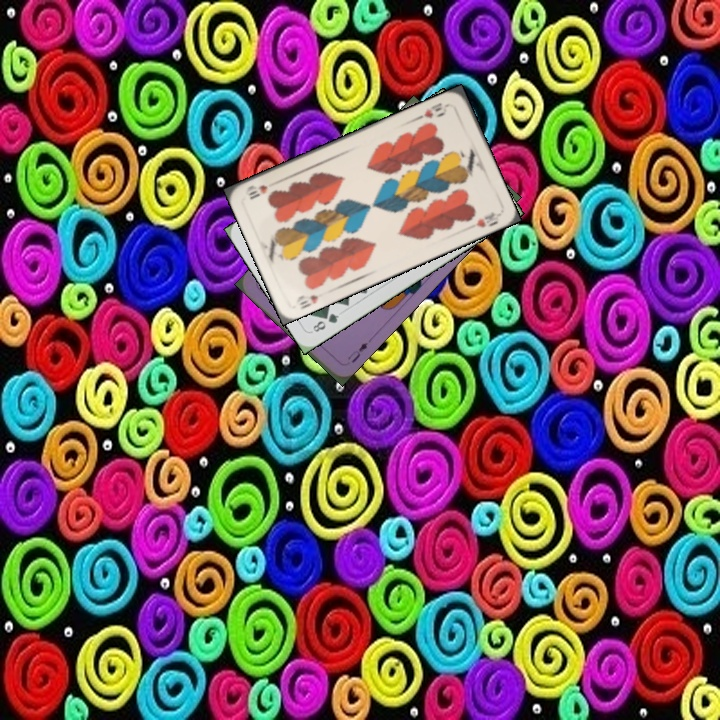EU: (344, 338, 371, 366)
G8: (309, 309, 342, 335)
H10: (414, 99, 452, 122), (292, 291, 321, 312)
